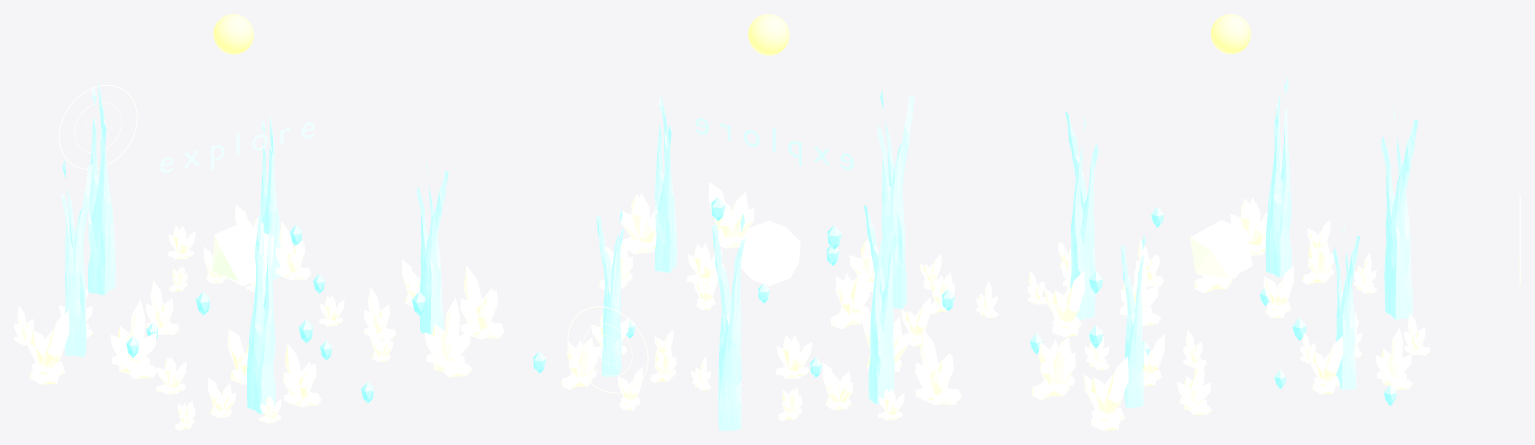
Rendered from asset.glb.
3 views of the same model, side by side, from view 1: azimuth 30°, elevation 25°; view 2: azimuth 150°, elevation 25°; view 3: azimuth 270°, elevation 25° (orthographic). The views are drawn at different scales.
Parts seen in each view (by area): view 1: Icosphere.004, Icosphere.013, Icosphere.001, Cube.001, Cube.003, Cube.004, Icosphere.002, Cube.002, Icosphere.009, Cube, Sphere, d i s c o v e r; view 2: Icosphere.013, Icosphere.004, Icosphere.001, Cube.003, Cube.001, Icosphere.002, Cube.004, Icosphere.009, Cube.002, Cube, Sphere, d i s c o v e r; view 3: Icosphere.004, Icosphere.013, Cube.003, Icosphere.001, Icosphere.002, Cube.001, Cube.004, Icosphere.009, Cube.002, Cube, Sphere.
Part boxes in pixels (x1,y1,x2,y2): Icosphere.004: [319, 259, 504, 377]; Icosphere.013: [14, 280, 179, 384]; Icosphere.001: [156, 328, 321, 430]; Cube.001: [247, 196, 275, 414]; Cube.003: [88, 81, 115, 294]; Cube.004: [61, 160, 92, 357]; Icosphere.002: [167, 204, 311, 292]; Cube.002: [416, 161, 448, 334]; Icosphere.009: [212, 222, 273, 285]; Cube: [260, 115, 281, 280]; Sphere: [213, 14, 253, 54]; d i s c o v e r: [160, 122, 314, 173]; Icosphere.013: [775, 307, 961, 421]; Icosphere.004: [599, 182, 754, 309]; Icosphere.001: [830, 239, 998, 346]; Cube.003: [712, 213, 745, 430]; Cube.001: [877, 90, 914, 308]; Icosphere.002: [561, 312, 711, 410]; Cube.004: [863, 205, 897, 404]; Icosphere.009: [739, 220, 800, 285]; Cube.002: [655, 93, 676, 272]; Cube: [596, 209, 624, 376]; Sphere: [748, 14, 789, 55]; d i s c o v e r: [695, 118, 853, 169]; Icosphere.004: [1031, 328, 1212, 430]; Icosphere.013: [1194, 197, 1377, 317]; Cube.003: [1381, 106, 1418, 319]; Icosphere.001: [1027, 240, 1163, 337]; Icosphere.002: [1300, 312, 1430, 394]; Cube.001: [1065, 111, 1098, 319]; Cube.004: [1265, 77, 1291, 277]; Icosphere.009: [1190, 220, 1252, 283]; Cube.002: [1121, 235, 1145, 407]; Cube: [1333, 224, 1359, 390]; Sphere: [1210, 14, 1250, 54].
Bounding box in the file's own units: 45 × 35.37 × 48.44.
